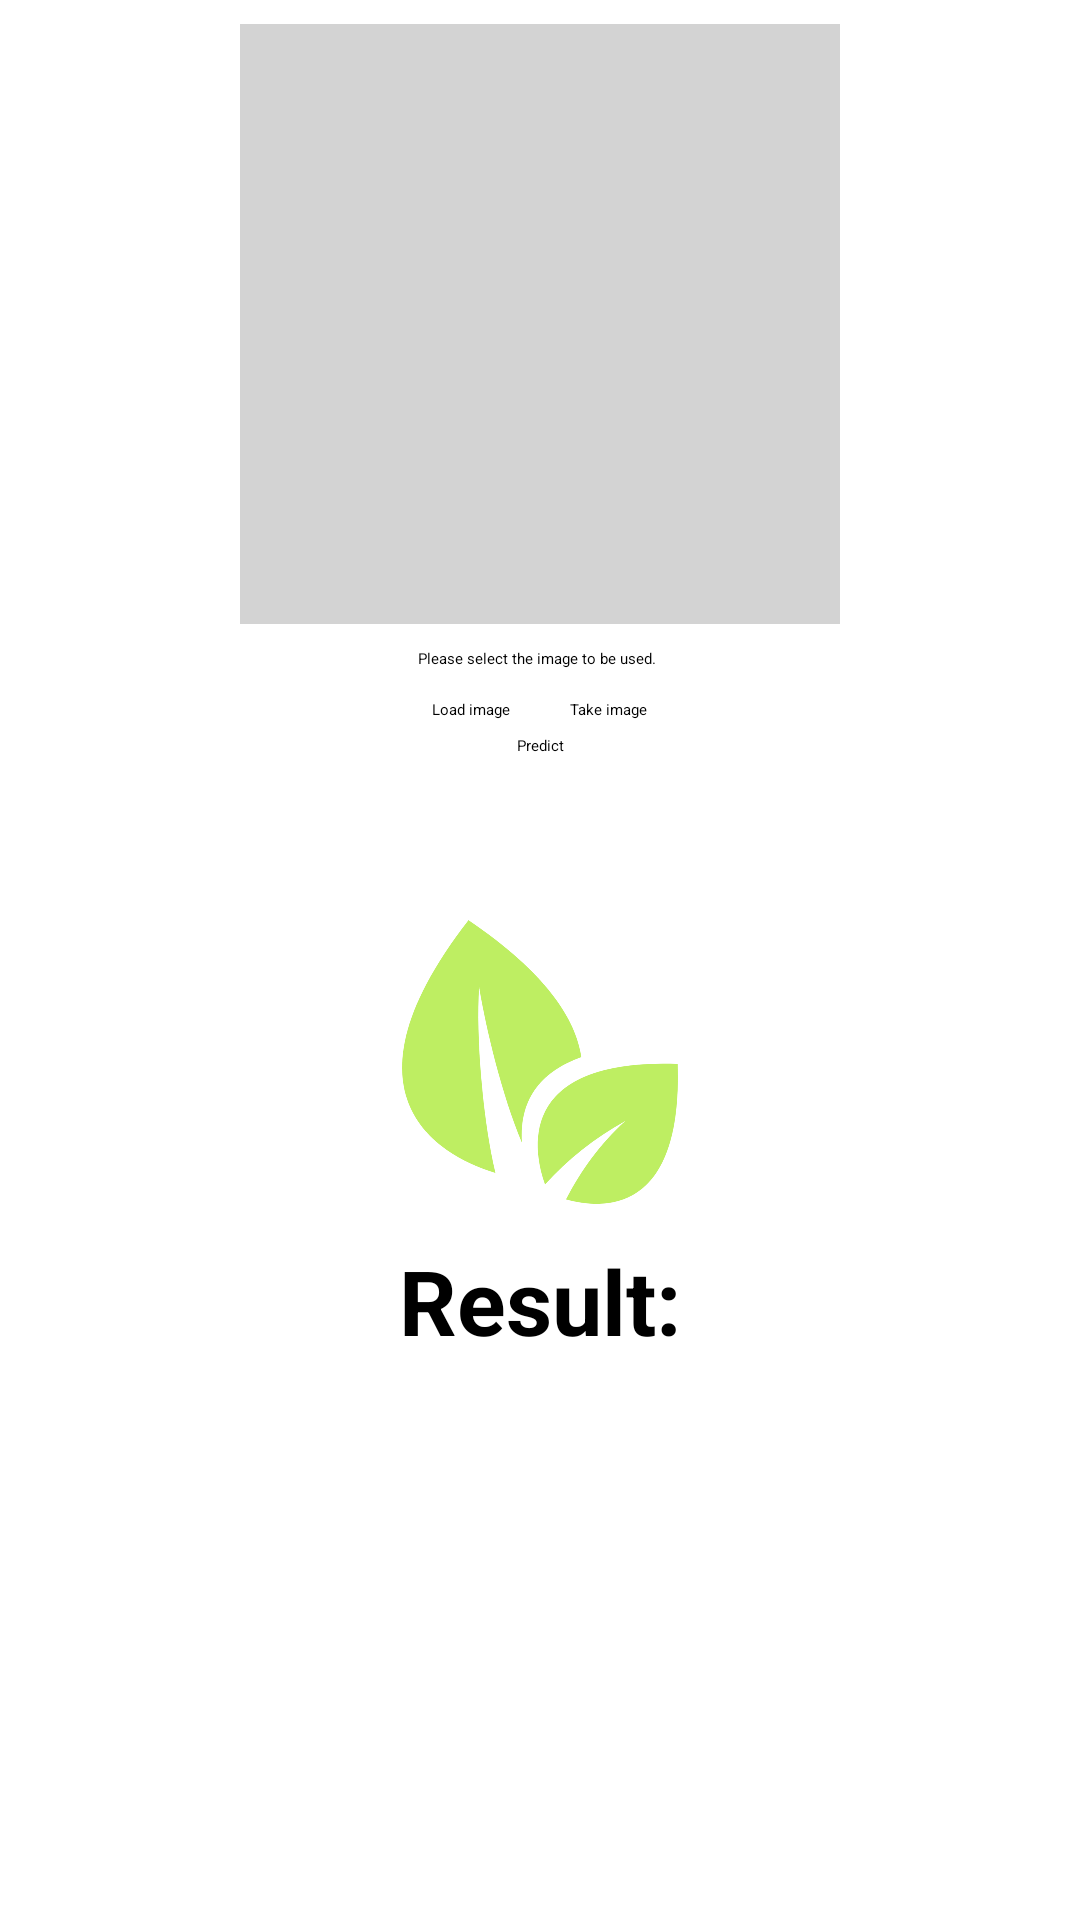

Icons on this 1080px x 1920px Android screen, each with its box as (x1, y1, x2, y2):
leafio: (402, 920, 678, 1204)
